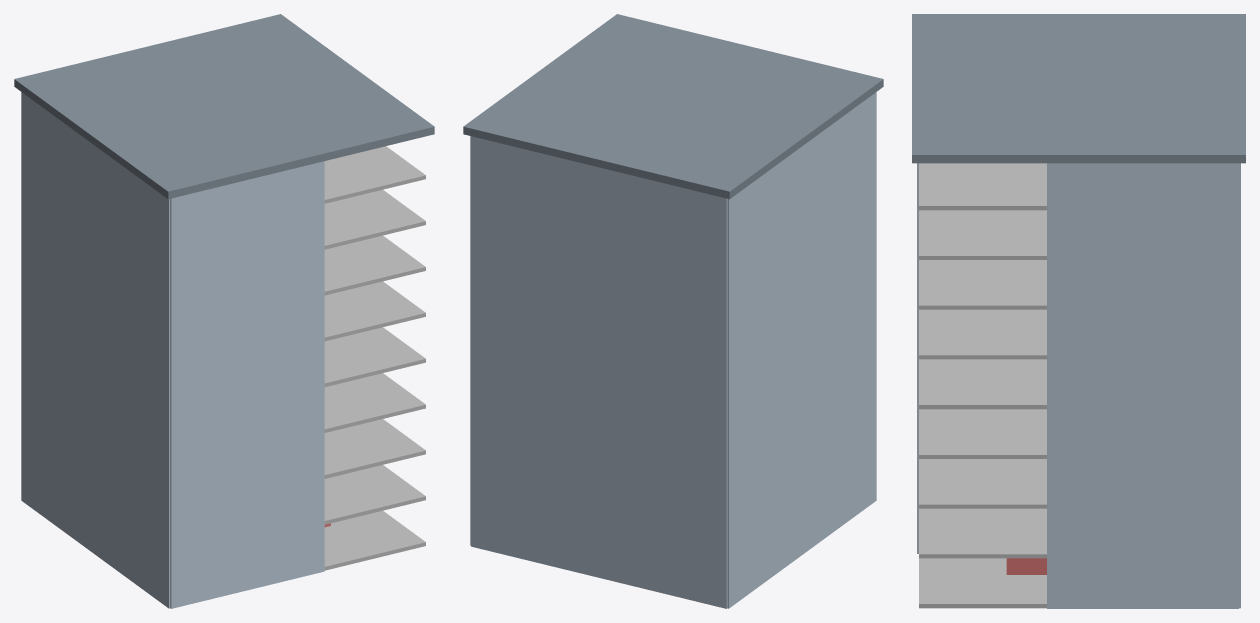
3 renders of one model, left to right at view 1: azimuth 30°, elevation 25°; view 2: azimuth 150°, elevation 25°; view 3: azimuth 270°, elevation 25°, orthographic. The views are drawn at different scales.
Bounding box in the file's own units: 7.3 × 11 × 7.3.
